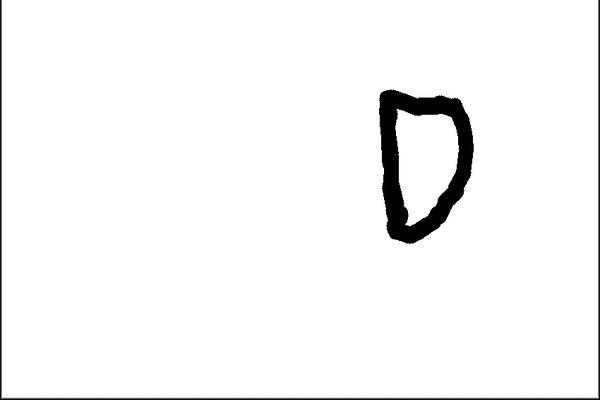D: (372, 84, 482, 249)
